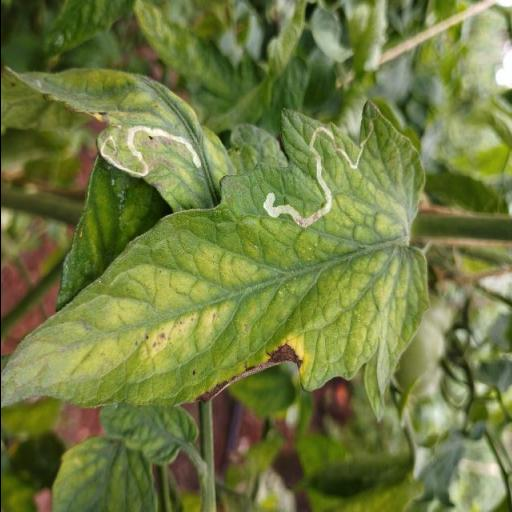disease_tomato: (0, 110, 426, 410), (0, 62, 235, 213)
